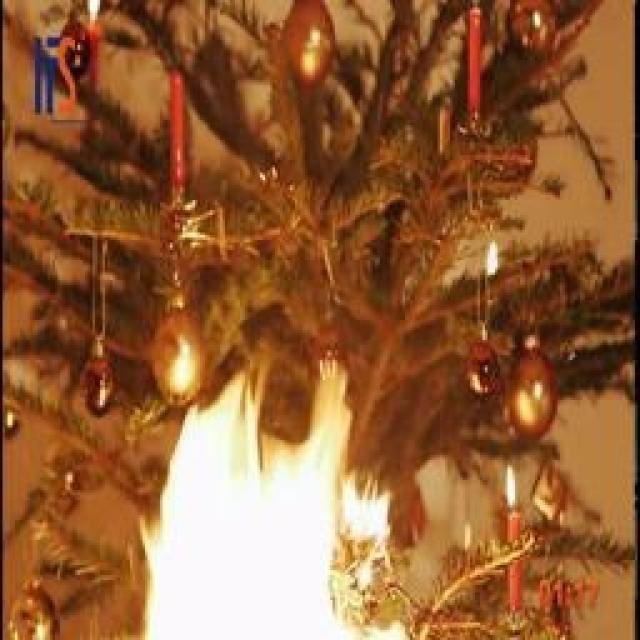fire: (114, 365, 418, 640)
